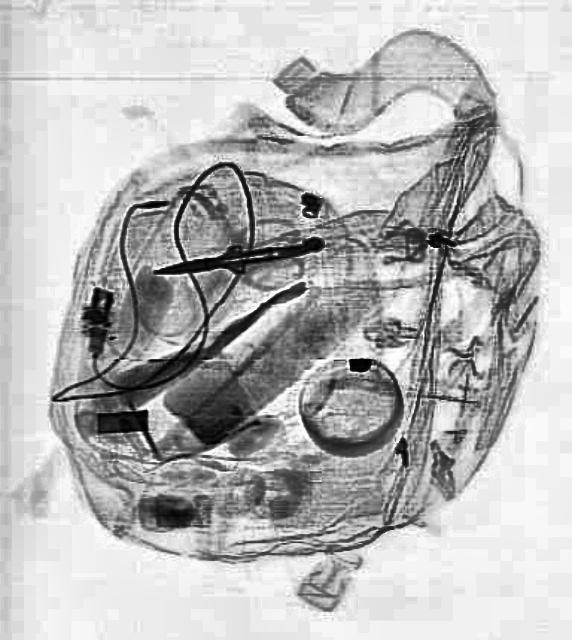Knife: (150, 232, 302, 286)
